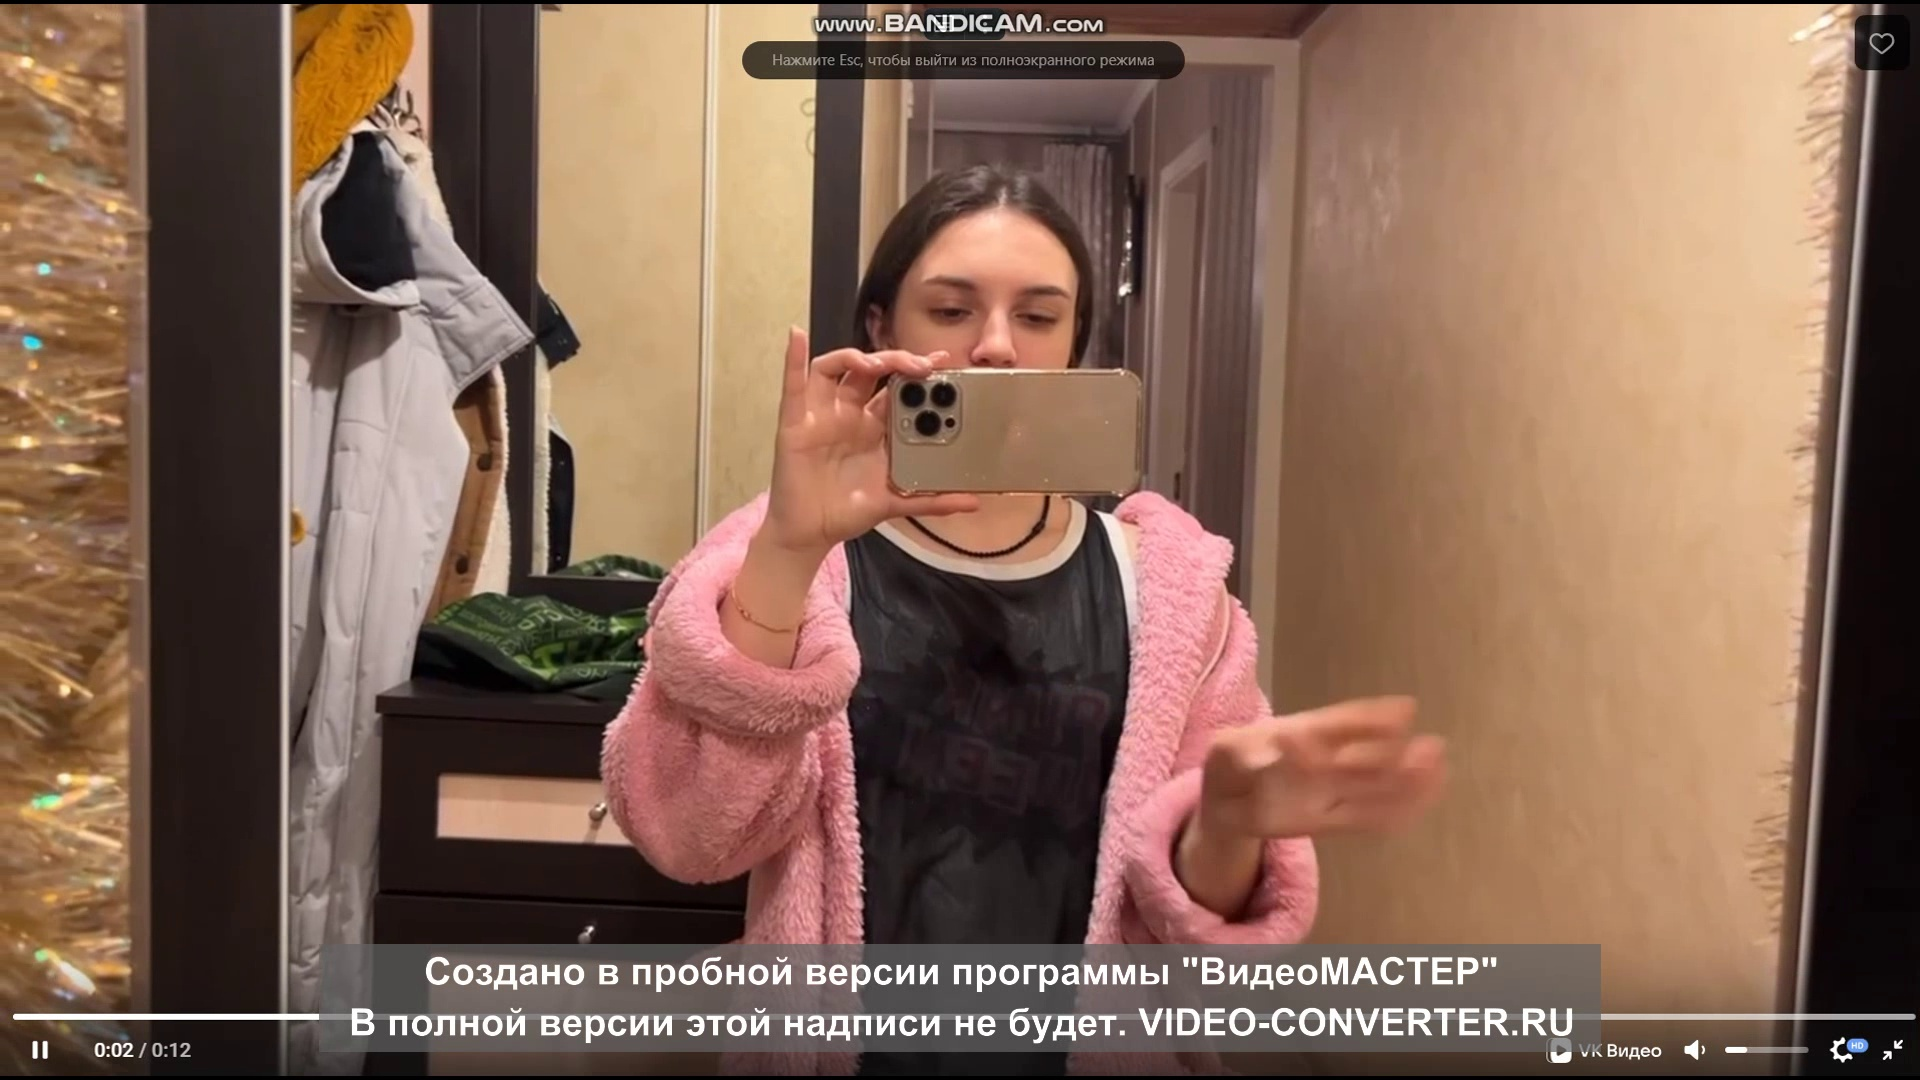Ладонь: (1196, 692, 1451, 845)
